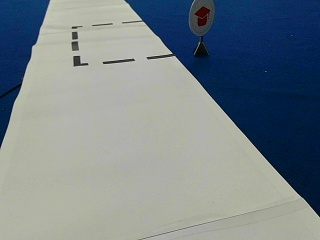school: (188, 1, 214, 35)
